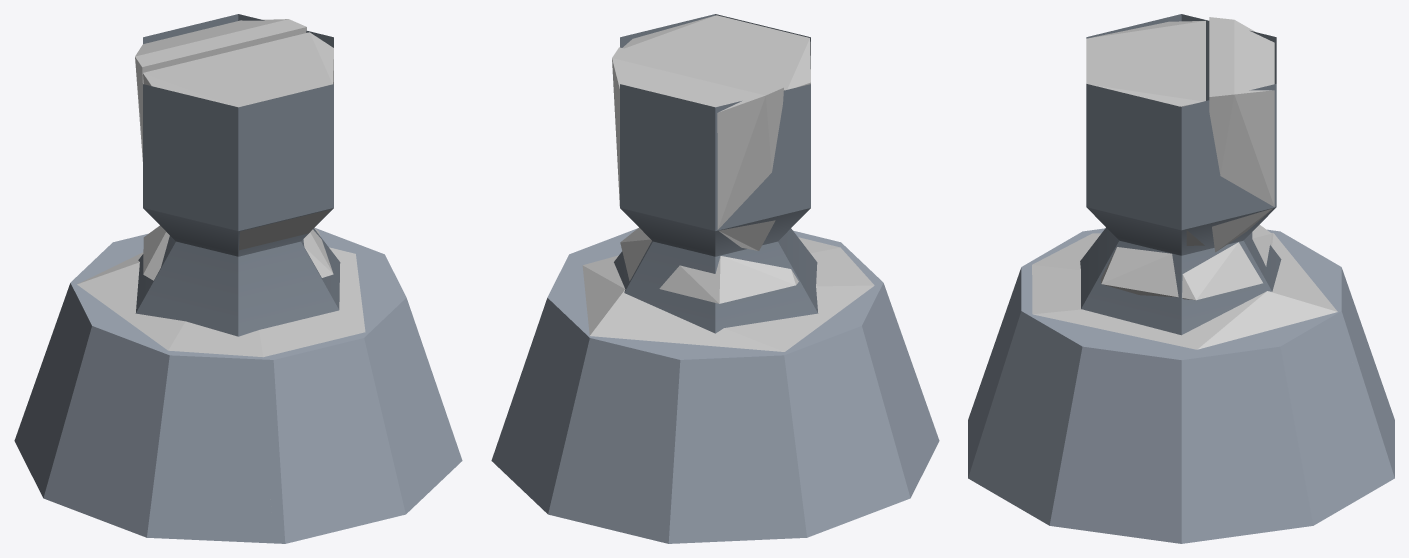
Rendered from SM_Prop_Signal_Horn_01_Stand_01.fbx.
The picture shows the model from 3 angles, left to right: view 1: azimuth 30°, elevation 25°; view 2: azimuth 150°, elevation 25°; view 3: azimuth 270°, elevation 25°; orthographic projection.
Parts seen in each view (by area): view 1: SM_Prop_Signal_Horn_01_Stand_01, SM_Prop_Signal_Horn_01_Stand_01_ConvexHulls; view 2: SM_Prop_Signal_Horn_01_Stand_01, SM_Prop_Signal_Horn_01_Stand_01_ConvexHulls; view 3: SM_Prop_Signal_Horn_01_Stand_01, SM_Prop_Signal_Horn_01_Stand_01_ConvexHulls.
Boxes of the visible parts, <box> form: SM_Prop_Signal_Horn_01_Stand_01: <box>14,14,462,543</box>; SM_Prop_Signal_Horn_01_Stand_01_ConvexHulls: <box>77,19,365,357</box>; SM_Prop_Signal_Horn_01_Stand_01: <box>491,14,939,543</box>; SM_Prop_Signal_Horn_01_Stand_01_ConvexHulls: <box>582,15,874,351</box>; SM_Prop_Signal_Horn_01_Stand_01: <box>968,14,1394,543</box>; SM_Prop_Signal_Horn_01_Stand_01_ConvexHulls: <box>1032,17,1337,349</box>.
Size of the model in its own units: 14.28 by 13.58 by 13.76.
2 materials, 1 textured.
